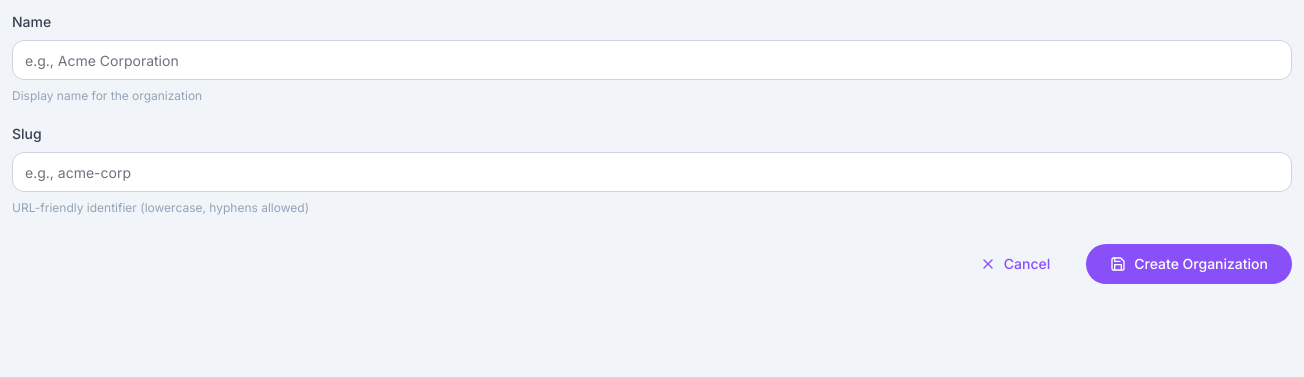
Test case: OrganizationForm › Create Mode › shows generic error message when API returns no error details
Type "New Organization" into the field with placeholder "e.g., Acme Corporation" at coordinates (652, 60), box [12,40,1292,80]
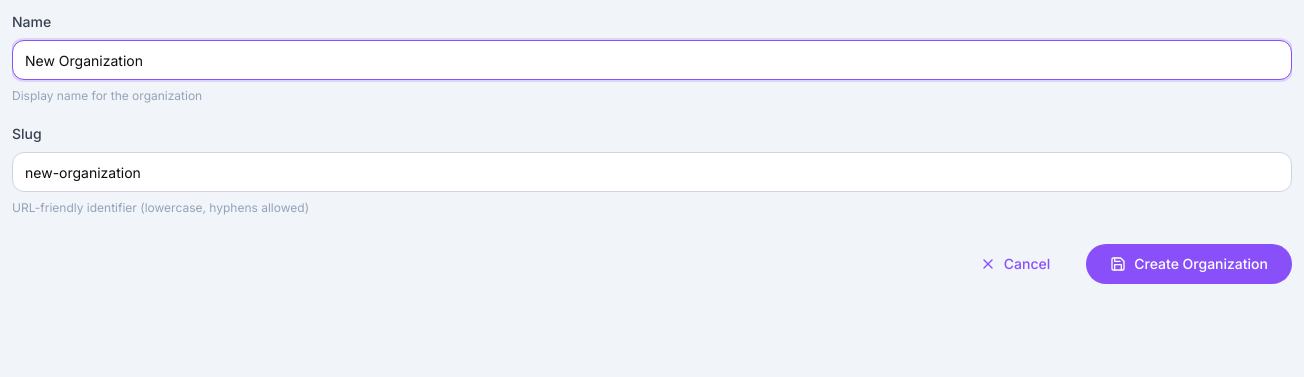
Replace the text in the field with placeholder "e.g., acme-corp" with "new-org" at coordinates (652, 172), box [12,152,1292,192]
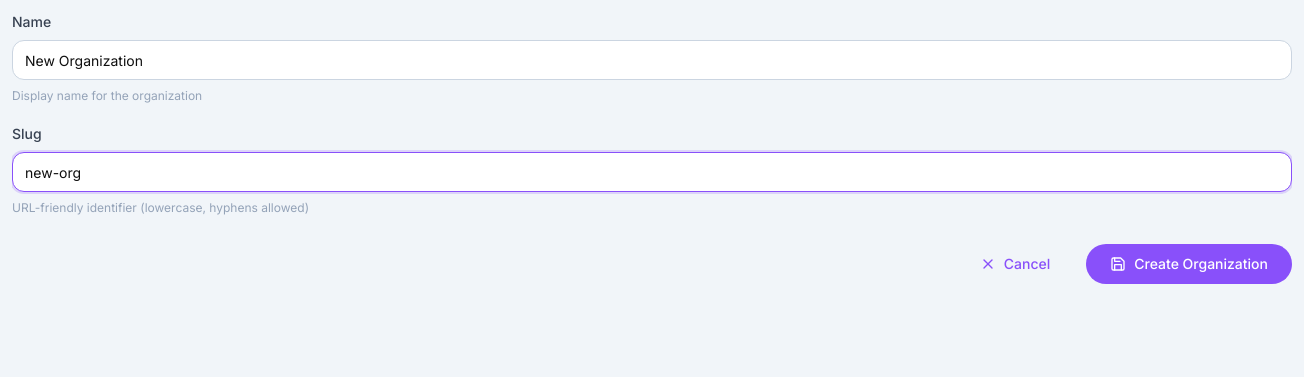
Click the button "Create Organization" at coordinates (1189, 264), box [1086,244,1292,284]
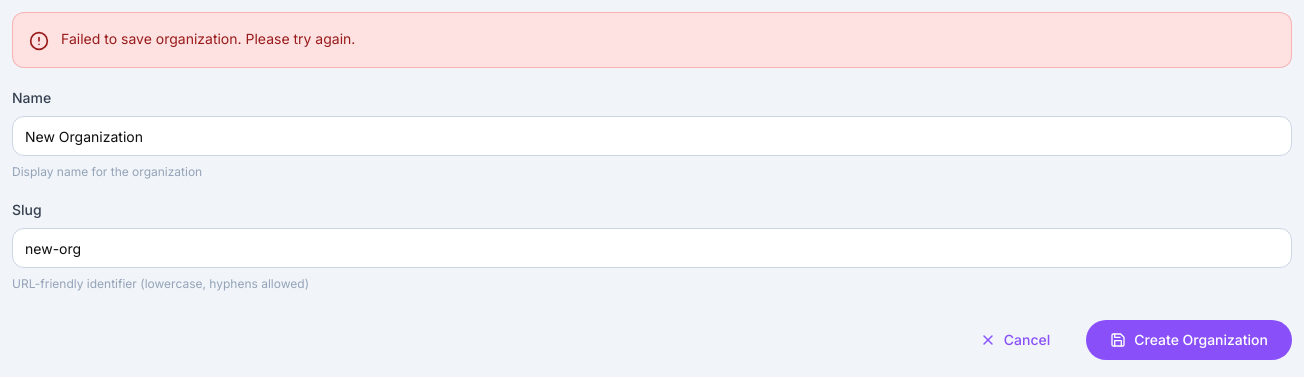
Expected: the text "Failed to save organization. Please try again." is shown, [61,29,355,49]
